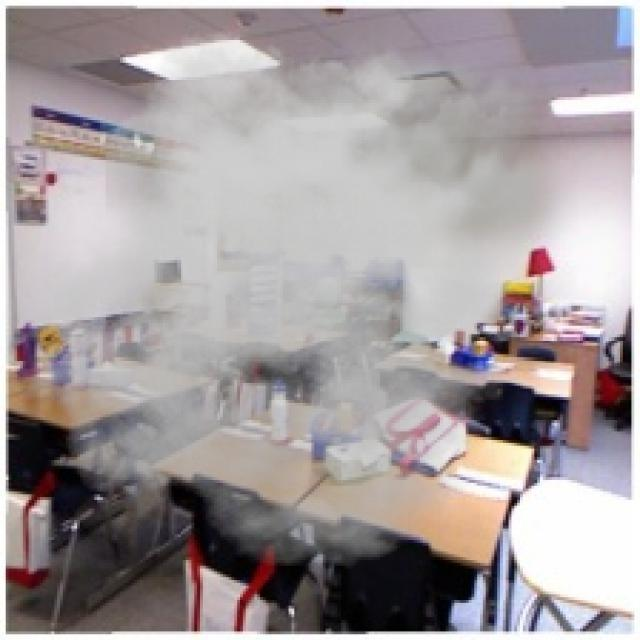Smoke: (20, 14, 577, 569)
